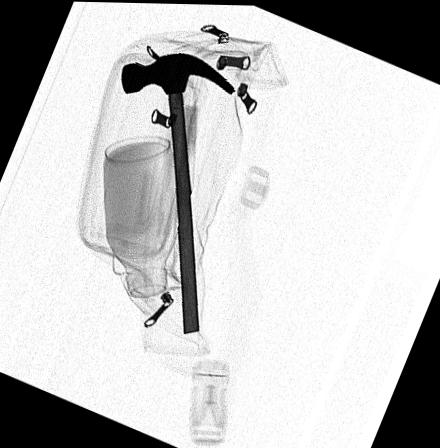Hammer: (120, 52, 233, 334)
